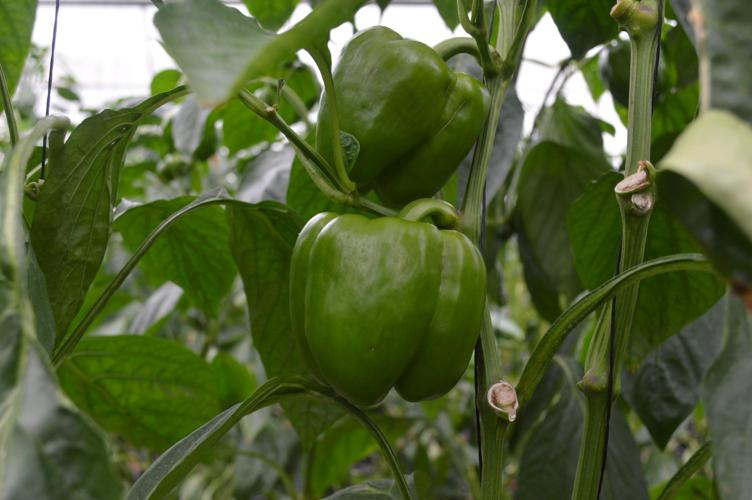BellPepper: (294, 213, 486, 401), (311, 23, 494, 209)
